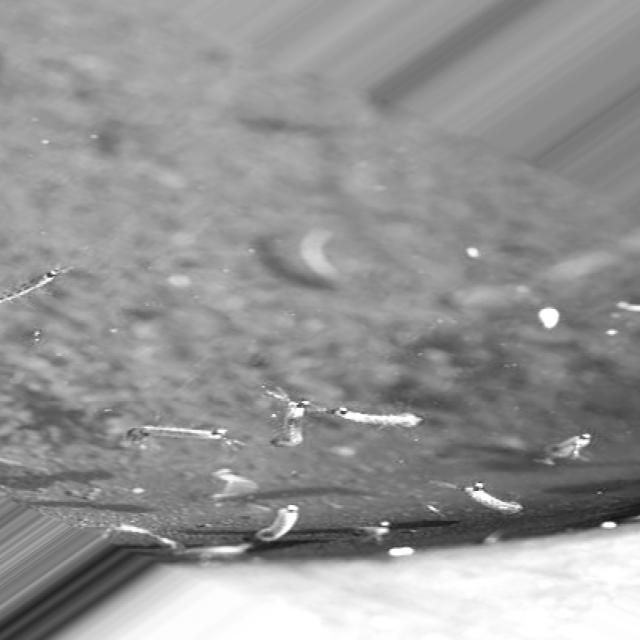larvas: (1, 262, 58, 308), (468, 481, 523, 519), (130, 421, 223, 442), (334, 408, 424, 428), (544, 434, 593, 464), (256, 504, 295, 540), (278, 400, 304, 451)
